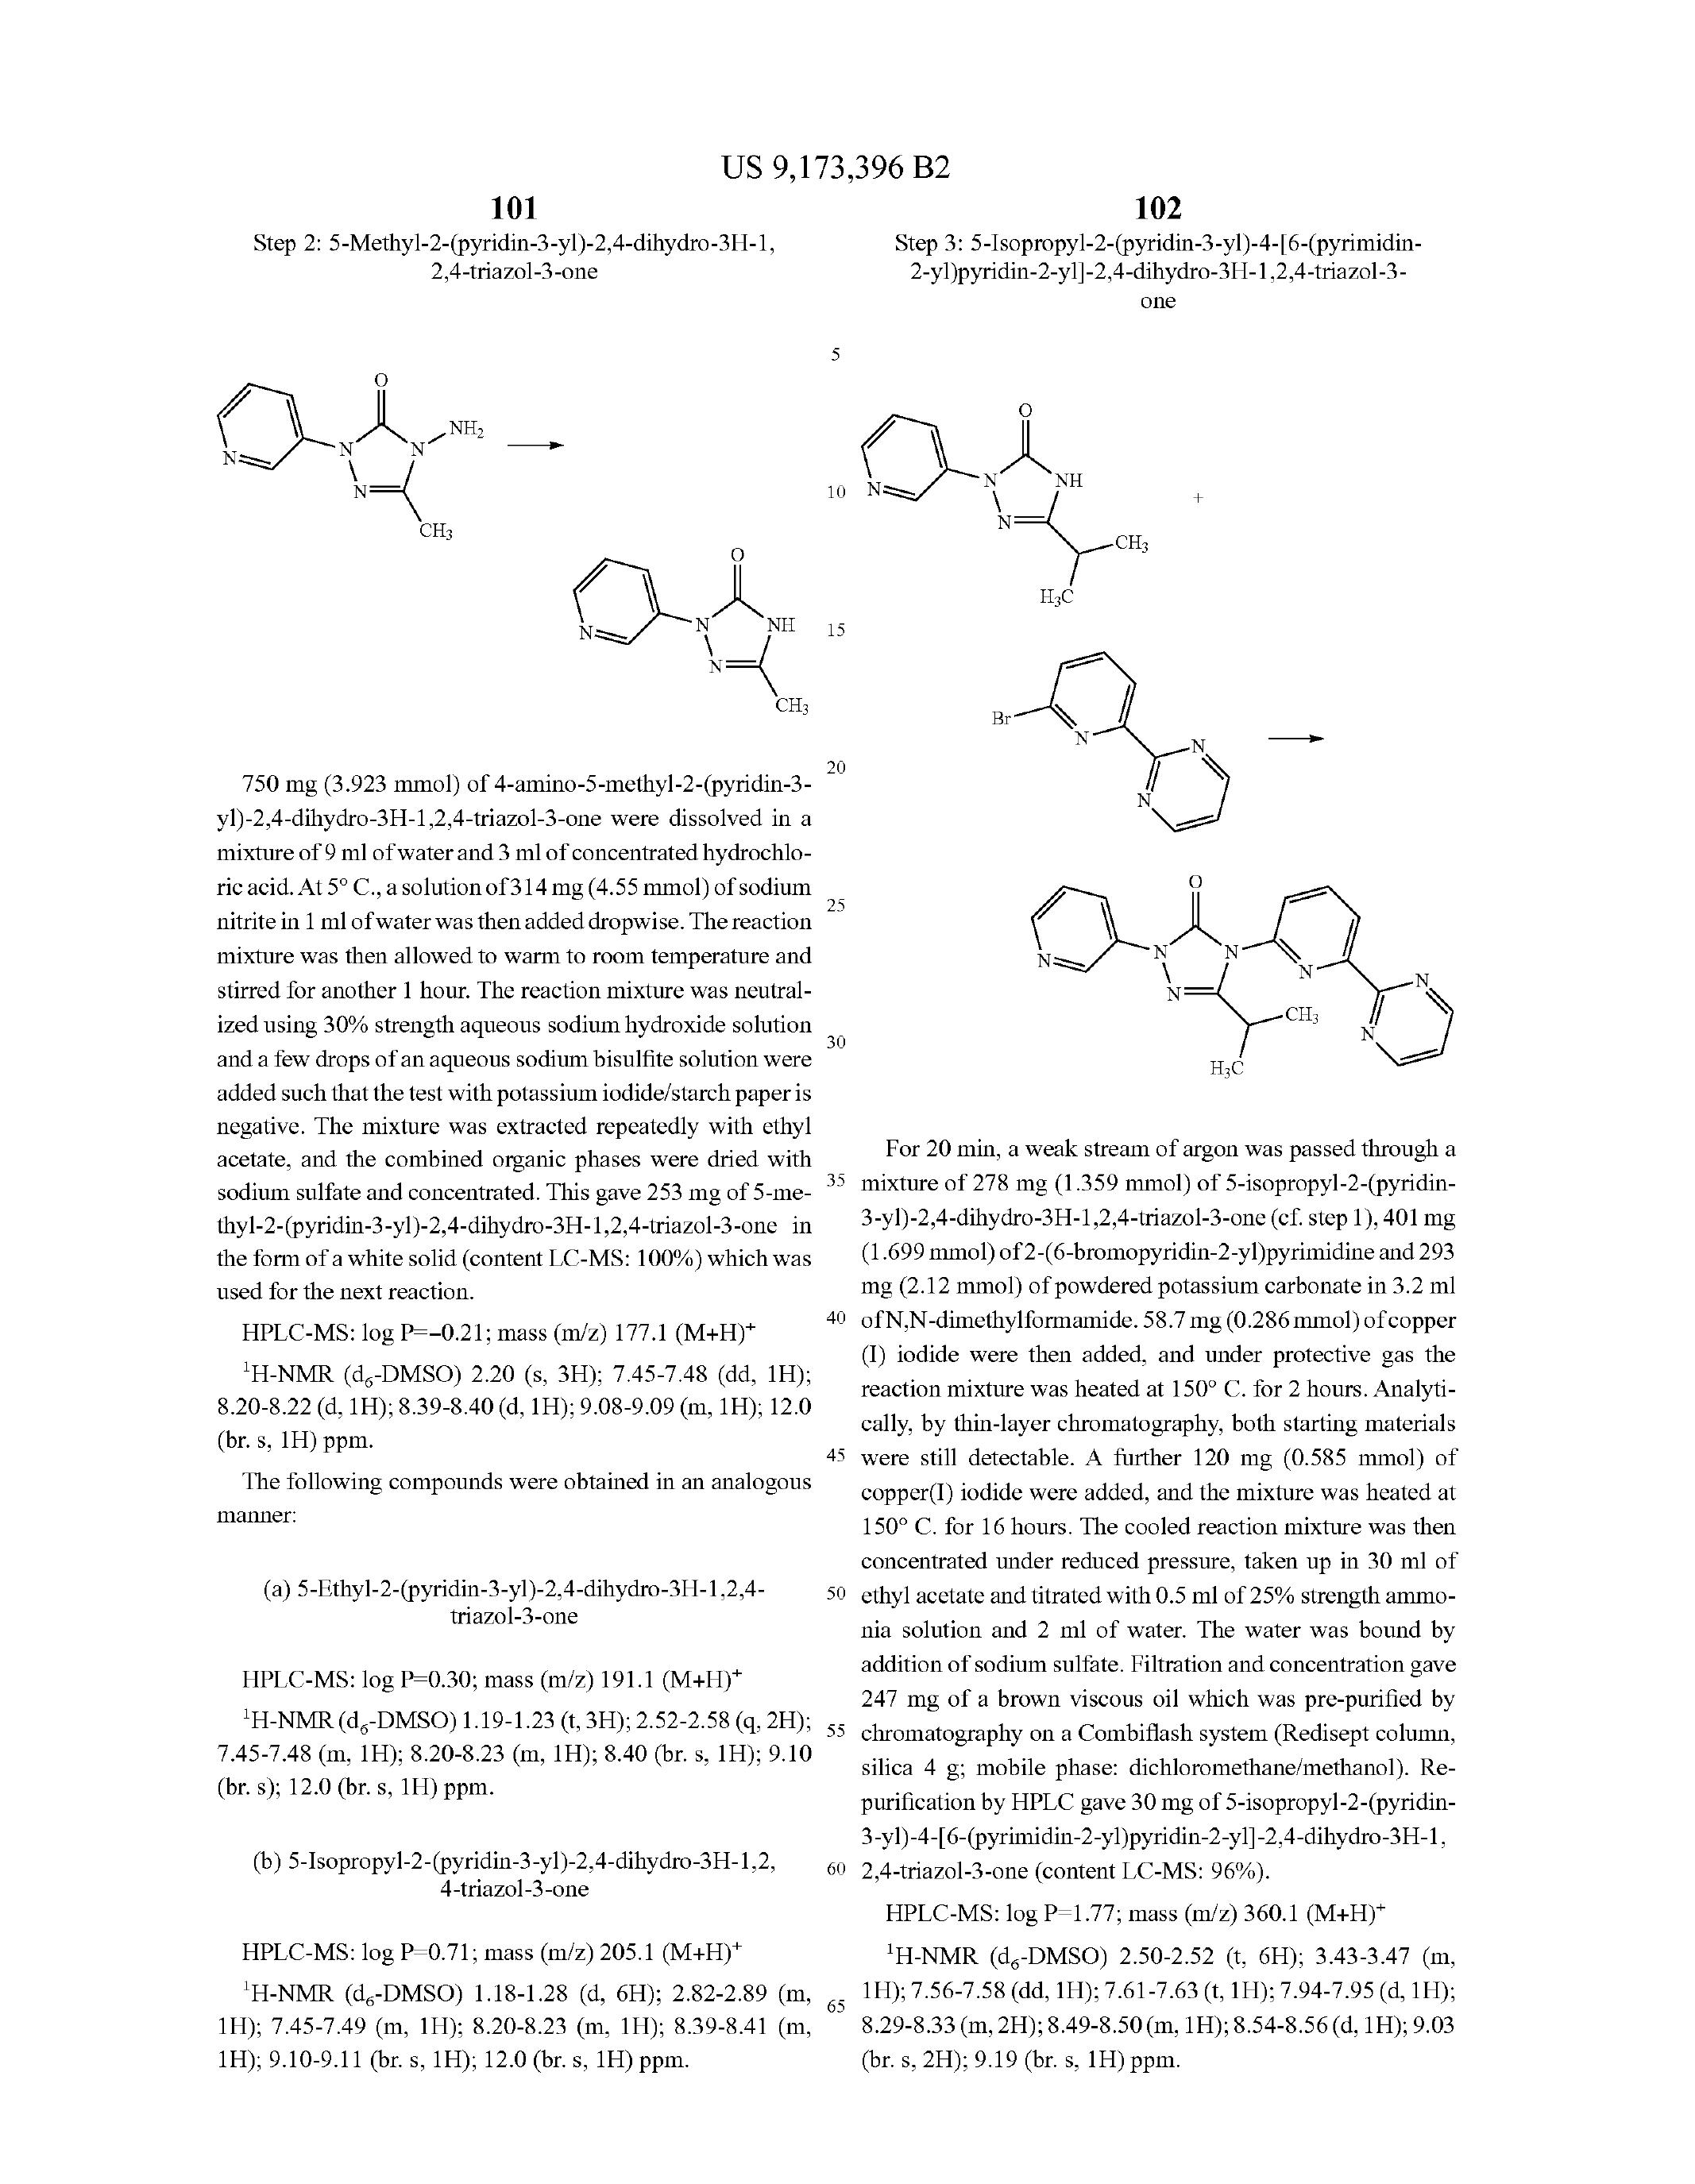reactions: (819, 392, 1557, 1108)
